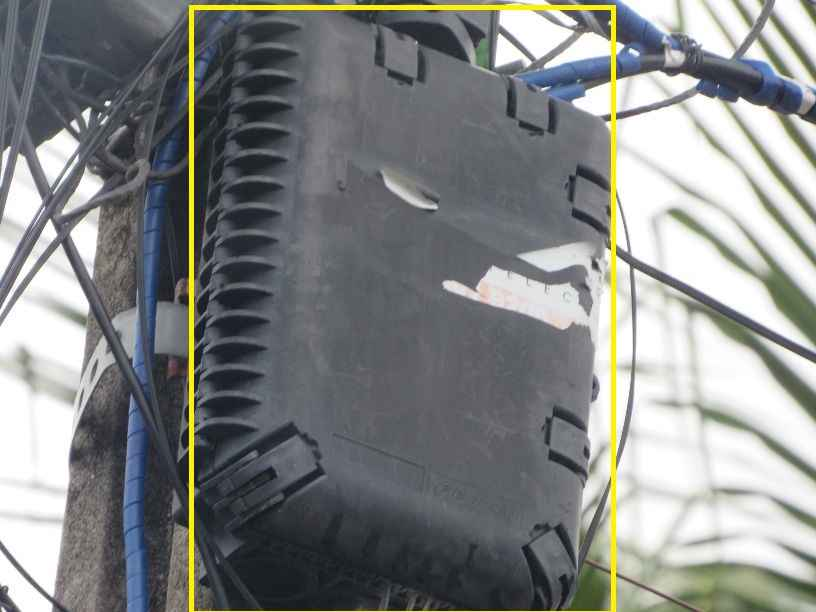caixa_derivacao: (185, 16, 602, 606)
